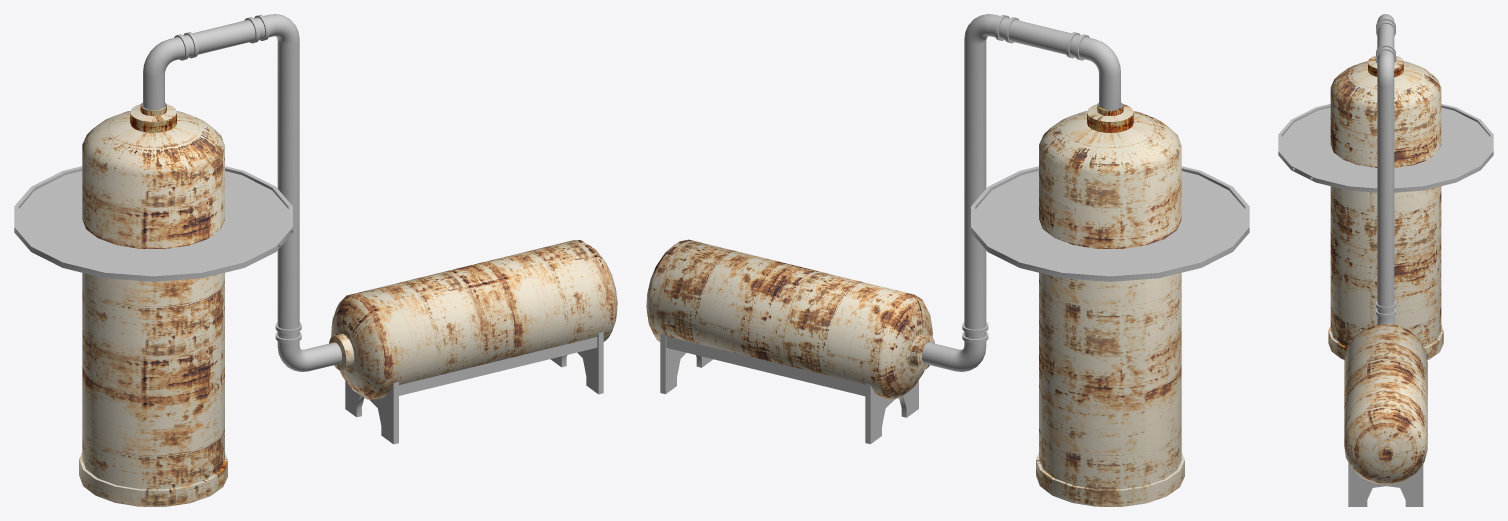
The model's file is tank_2_lod1.FBX.
The picture shows the model from 3 angles, left to right: view 1: azimuth 30°, elevation 25°; view 2: azimuth 150°, elevation 25°; view 3: azimuth 270°, elevation 25°; orthographic projection. The views are drawn at different scales.
Visible parts, largest first — view 1: Mesh Object; view 2: Mesh Object; view 3: Mesh Object.
Boxes of the visible parts, bbox=[...] form: Mesh Object: bbox=[14, 14, 617, 506]; Mesh Object: bbox=[646, 14, 1249, 506]; Mesh Object: bbox=[1278, 14, 1493, 506].
Size of the model in its own units: 22.9 by 16.54 by 9.55.
